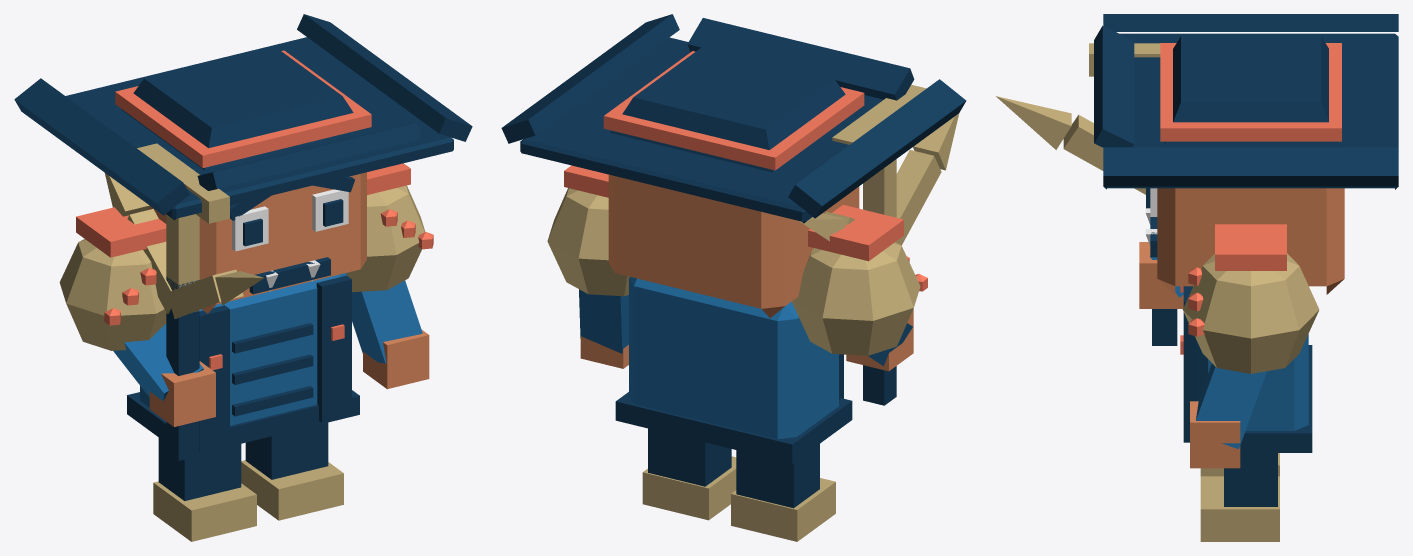
The model's file is warlord_r15.glb.
3 views of the same model, side by side, from view 1: azimuth 30°, elevation 25°; view 2: azimuth 150°, elevation 25°; view 3: azimuth 270°, elevation 25° (orthographic). The views are drawn at different scales.
Parts seen in each view (by area): view 1: warlord_r15_mesh; view 2: warlord_r15_mesh; view 3: warlord_r15_mesh.
Boxes of the visible parts, <box> form: warlord_r15_mesh: <box>14,14,472,541</box>; warlord_r15_mesh: <box>501,14,966,541</box>; warlord_r15_mesh: <box>996,14,1398,541</box>.
Bounding box in the file's own units: 3.19 × 3.6 × 3.03.
Materials: 1 (1 with a texture image).
